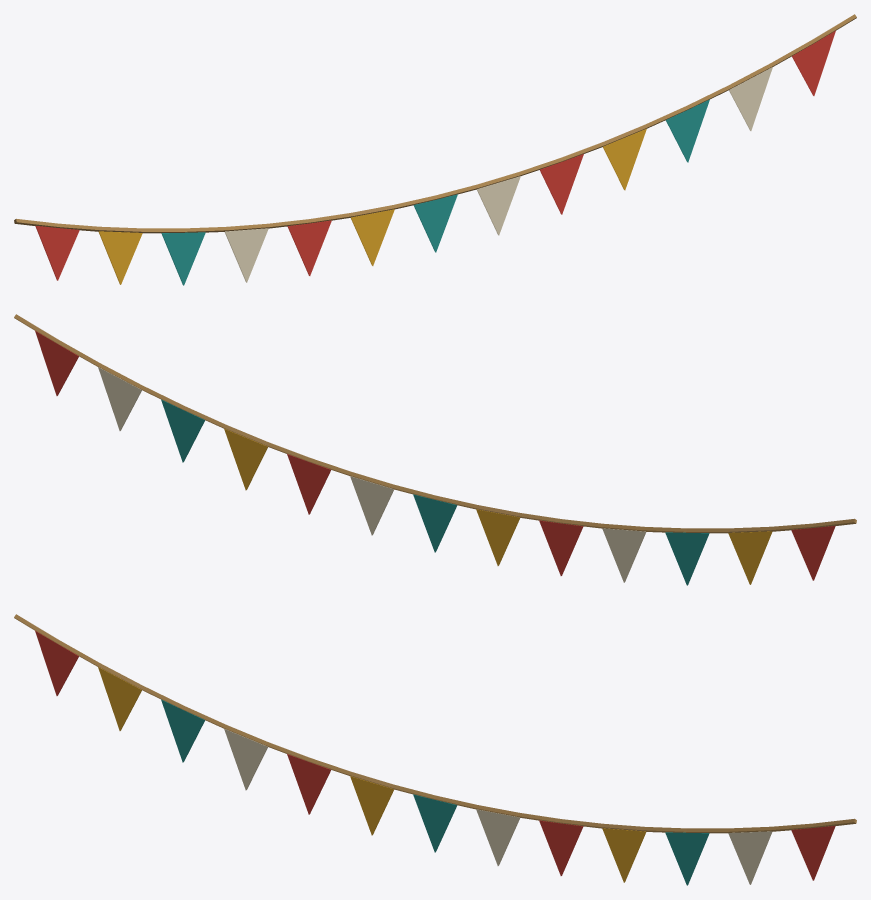
File: bunting_5m.glb
3 renders of one model, top to bottom at view 1: azimuth 30°, elevation 25°; view 2: azimuth 150°, elevation 25°; view 3: azimuth 330°, elevation 25°, orthographic.
Parts seen in each view (by area): view 1: bunting_5m; view 2: bunting_5m; view 3: bunting_5m.
Part boxes in pixels (<box>): bunting_5m: <box>14,14,856,285</box>; bunting_5m: <box>14,314,856,585</box>; bunting_5m: <box>14,614,856,885</box>.
Size of the model in its own units: 5.01 by 0.7732 by 0.028.
1 material, 1 textured.
